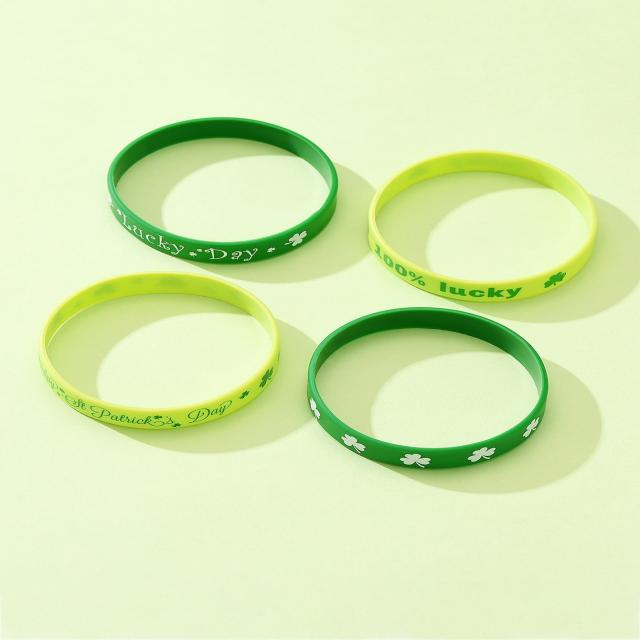bracelet: (48, 53, 345, 272), (22, 250, 306, 468), (292, 279, 573, 490), (347, 108, 640, 310)
